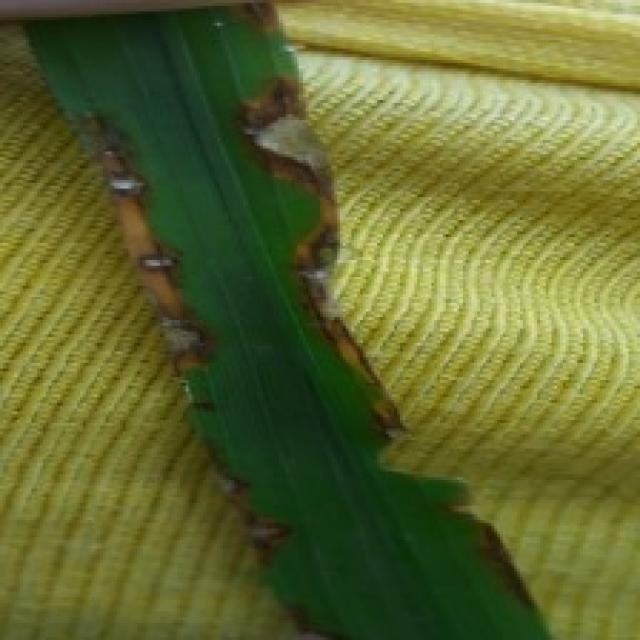Unhealthy: (239, 74, 381, 386), (87, 115, 213, 374), (198, 443, 292, 568), (480, 524, 534, 609), (286, 602, 354, 640), (236, 3, 280, 34), (369, 400, 403, 440)
